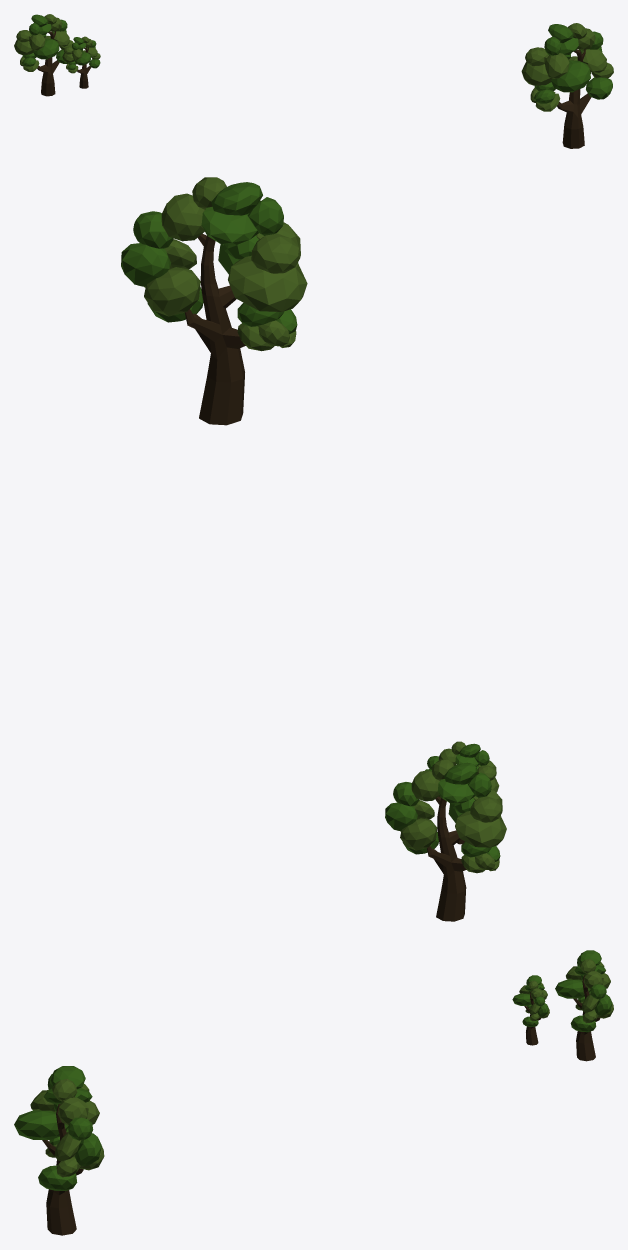
The model's file is decor14.obj.
The picture shows the model from 3 angles, top to bottom: view 1: azimuth 30°, elevation 25°; view 2: azimuth 150°, elevation 25°; view 3: azimuth 270°, elevation 25°; orthographic projection. The views are drawn at different scales.
Parts seen in each view (by area): view 1: Oak_Cylinder.007, Oak_Cylinder.005, Oak_Cylinder.006; view 2: Oak_Cylinder.007, Oak_Cylinder.005, Oak_Cylinder.006; view 3: Oak_Cylinder.007, Oak_Cylinder.005, Oak_Cylinder.006.
Part boxes in pixels (x1=…): Oak_Cylinder.007: x1=521, y1=23, x2=613, y2=148; Oak_Cylinder.005: x1=14, y1=14, x2=73, y2=96; Oak_Cylinder.006: x1=62, y1=36, x2=100, y2=88; Oak_Cylinder.007: x1=121, y1=177, x2=307, y2=425; Oak_Cylinder.005: x1=385, y1=759, x2=506, y2=921; Oak_Cylinder.006: x1=425, y1=741, x2=499, y2=844; Oak_Cylinder.007: x1=14, y1=1066, x2=104, y2=1235; Oak_Cylinder.005: x1=555, y1=950, x2=613, y2=1061; Oak_Cylinder.006: x1=512, y1=975, x2=549, y2=1045.
Size of the model in its own units: 4647 by 1610 by 4849.
